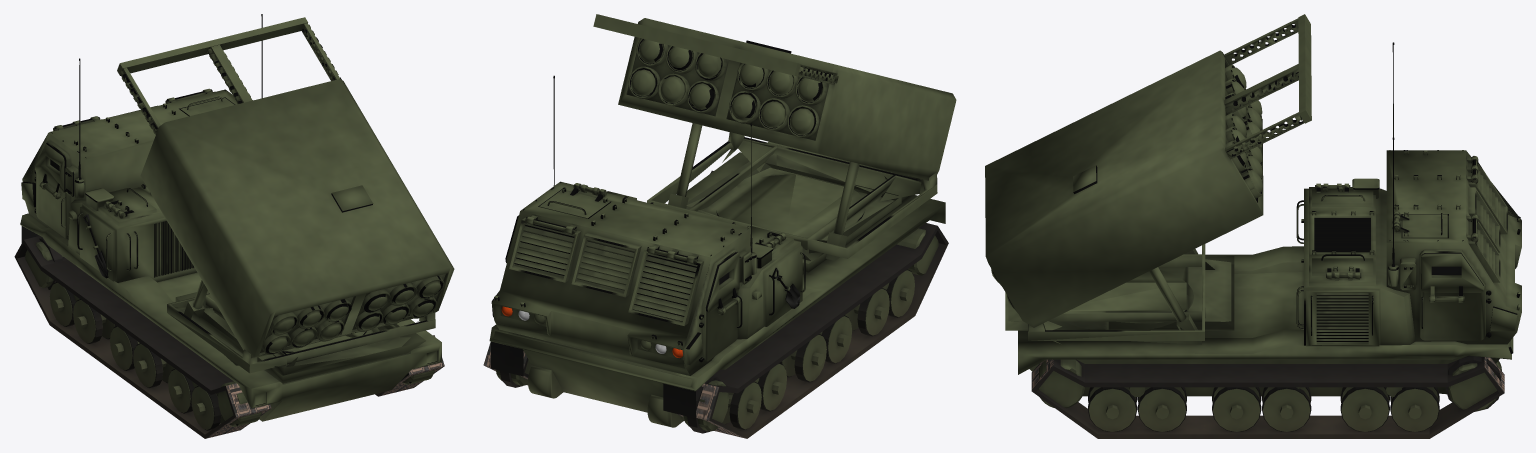
3 views of the same model, side by side, from view 1: azimuth 30°, elevation 25°; view 2: azimuth 150°, elevation 25°; view 3: azimuth 270°, elevation 25° (orthographic). The views are drawn at different scales.
Visible parts, largest first — view 1: turret, hull; view 2: hull, turret; view 3: hull, turret.
Boxes of the visible parts, x1,y1,x2,y2 form: turret: (117,17,454,373); hull: (14,14,444,438); hull: (483,75,948,438); turret: (593,14,956,260); hull: (1005,42,1521,438); turret: (985,14,1311,344).
Size of the model in its own units: 3.55 by 4.86 by 7.32.
Materials: 2 (2 with a texture image).
